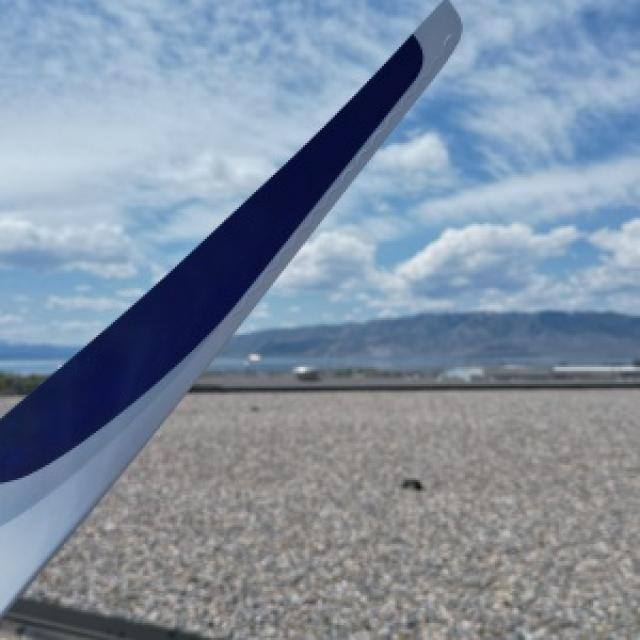healthy: (0, 0, 461, 608)
